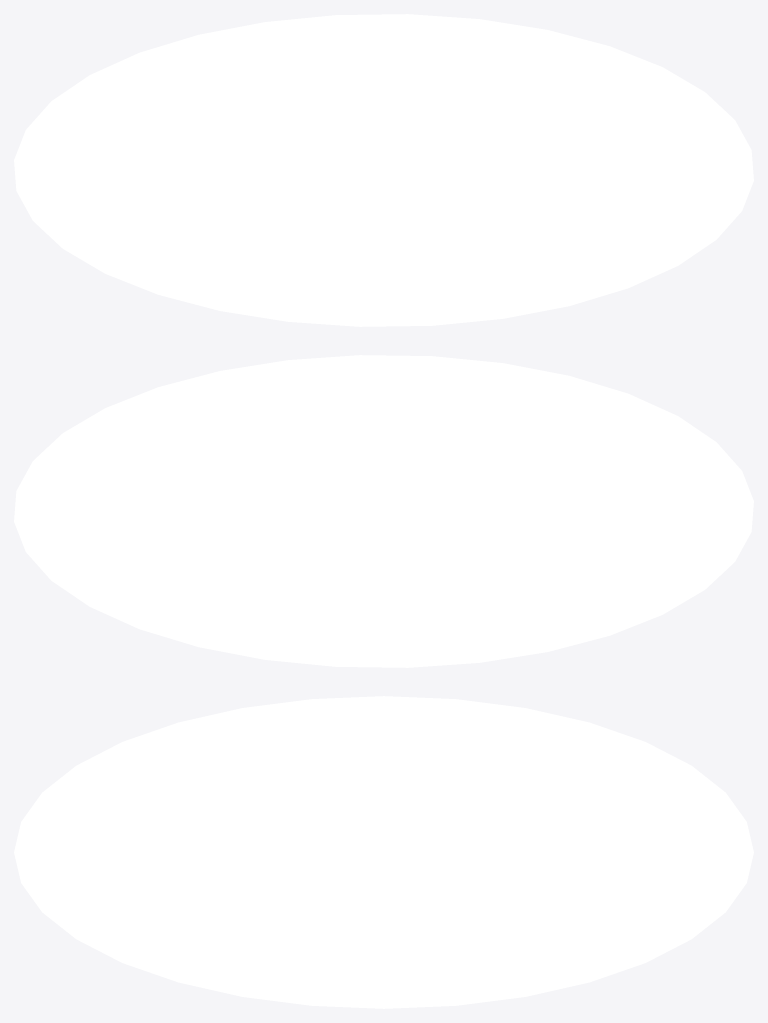
File: circle_glow.glb
3 views of the same model, one above another, from view 1: azimuth 30°, elevation 25°; view 2: azimuth 150°, elevation 25°; view 3: azimuth 270°, elevation 25° (orthographic).
Visible parts, largest first — view 1: Circle; view 2: Circle; view 3: Circle.
Part boxes in pixels (bbox=[...]): Circle: bbox=[14, 14, 753, 326]; Circle: bbox=[14, 355, 753, 667]; Circle: bbox=[14, 696, 753, 1008].
Size of the model in its own units: 8 by 0 by 8.
1 material, 1 textured.
